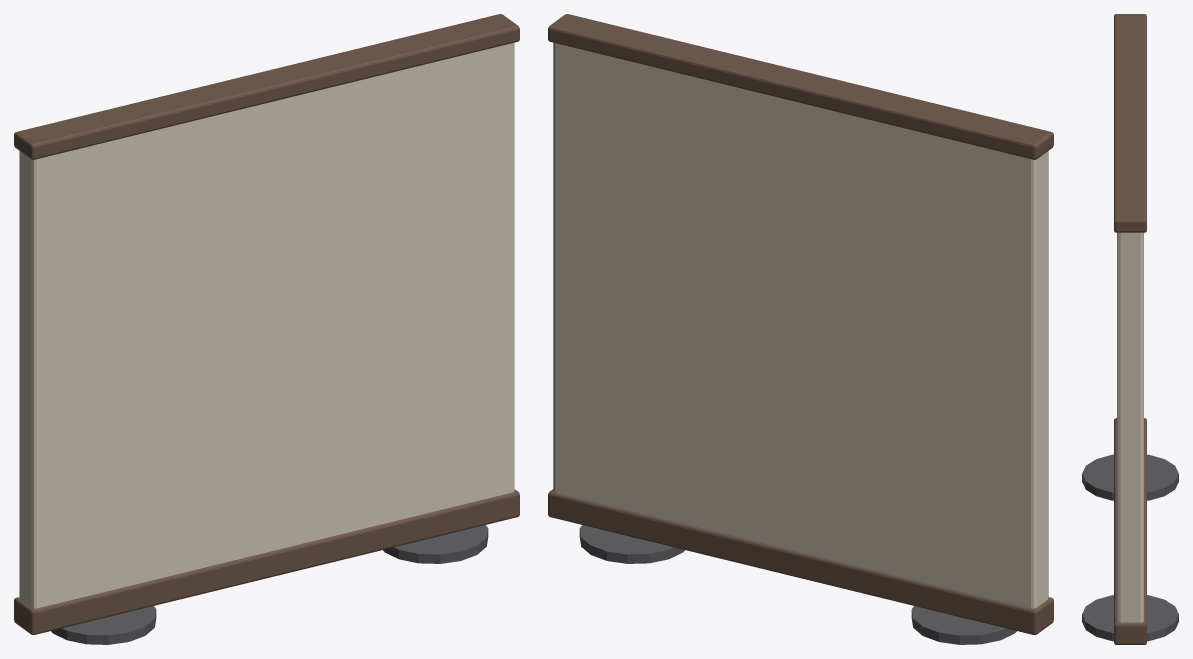
3 views of the same model, side by side, from view 1: azimuth 30°, elevation 25°; view 2: azimuth 150°, elevation 25°; view 3: azimuth 270°, elevation 25° (orthographic). The views are drawn at different scales.
Visible parts, largest first — view 1: partition; view 2: partition; view 3: partition.
Part boxes in pixels (left/top/right/bottom): partition: left=14, top=14, right=519, bottom=644; partition: left=548, top=14, right=1053, bottom=644; partition: left=1082, top=14, right=1178, bottom=644.
Size of the model in its own units: 1.62 by 1.59 by 0.32.
